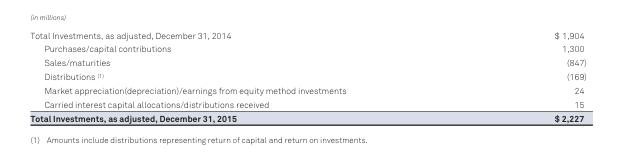table: (29, 29, 585, 123)
table column: (29, 29, 449, 123), (449, 29, 585, 123)
table row: (29, 41, 585, 55), (29, 55, 585, 69), (29, 69, 585, 83), (29, 83, 585, 97), (29, 97, 585, 110), (29, 110, 585, 123), (29, 29, 585, 41)
